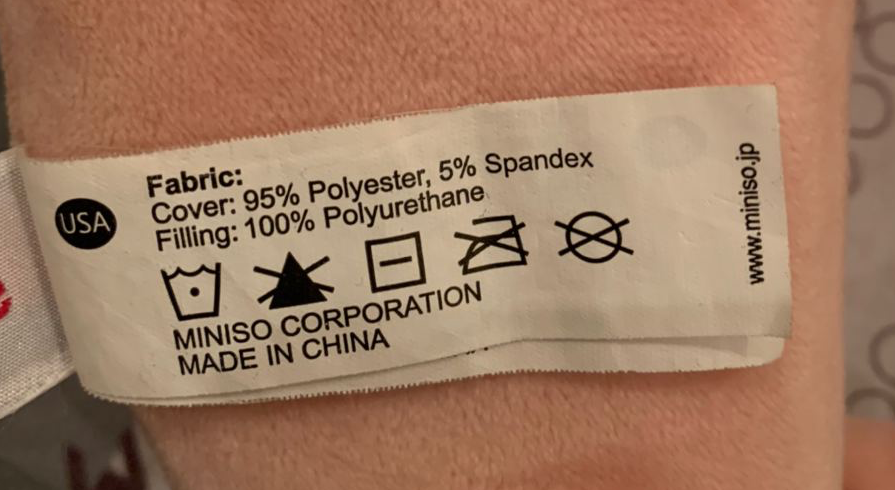do_not_bleach: (253, 245, 336, 315)
do_not_dry_clean: (550, 207, 634, 271)
do_not_iron: (454, 211, 533, 281)
dry_flat: (360, 227, 431, 298)
wash_at_or_below_30: (161, 257, 227, 321)
